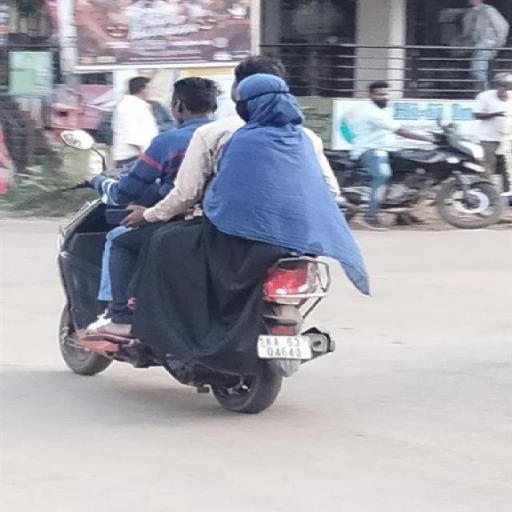tripple riding: (48, 54, 376, 259)
